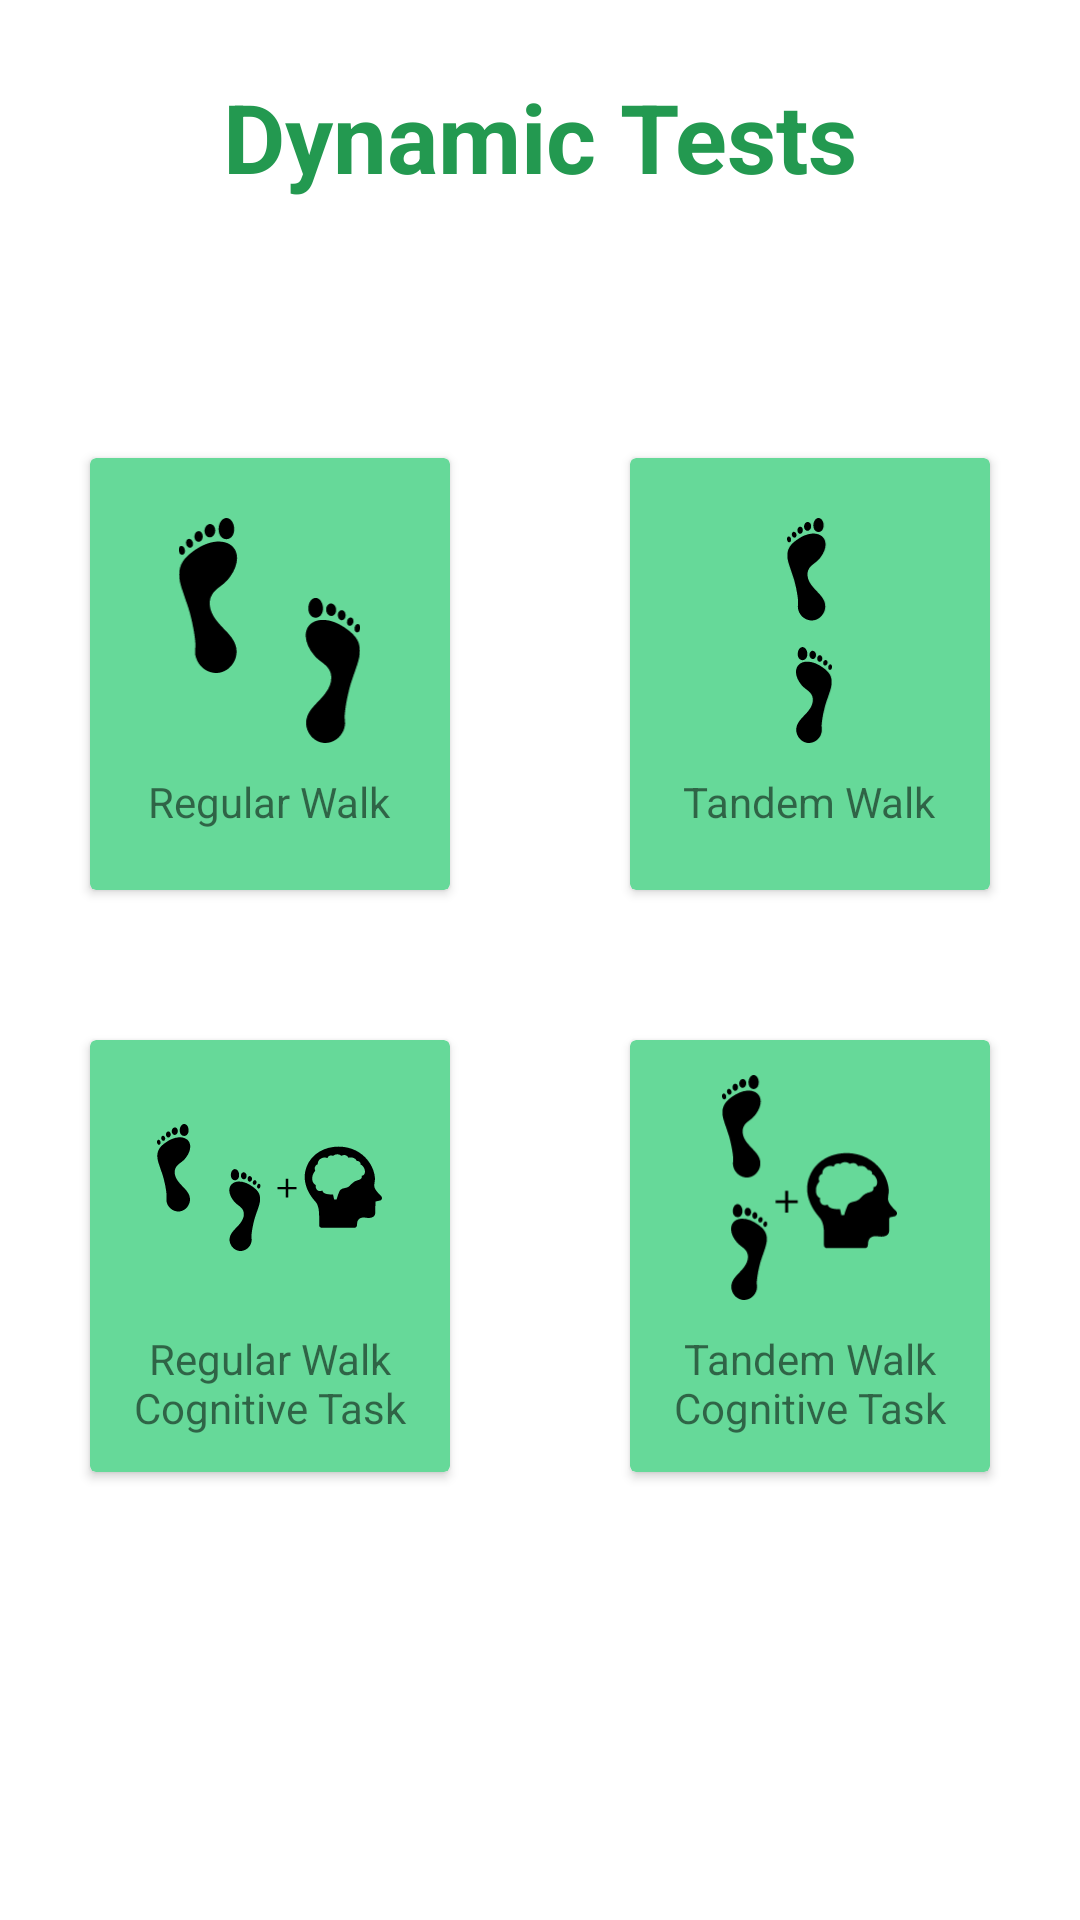

Icons on this 1080×1920 Android screen, each with its box as (x1, y1, x2, y2):
dynamic: (179, 518, 360, 743)
dynamic dual: (157, 1124, 382, 1251)
dynamic tandem dual: (722, 1075, 897, 1300)
